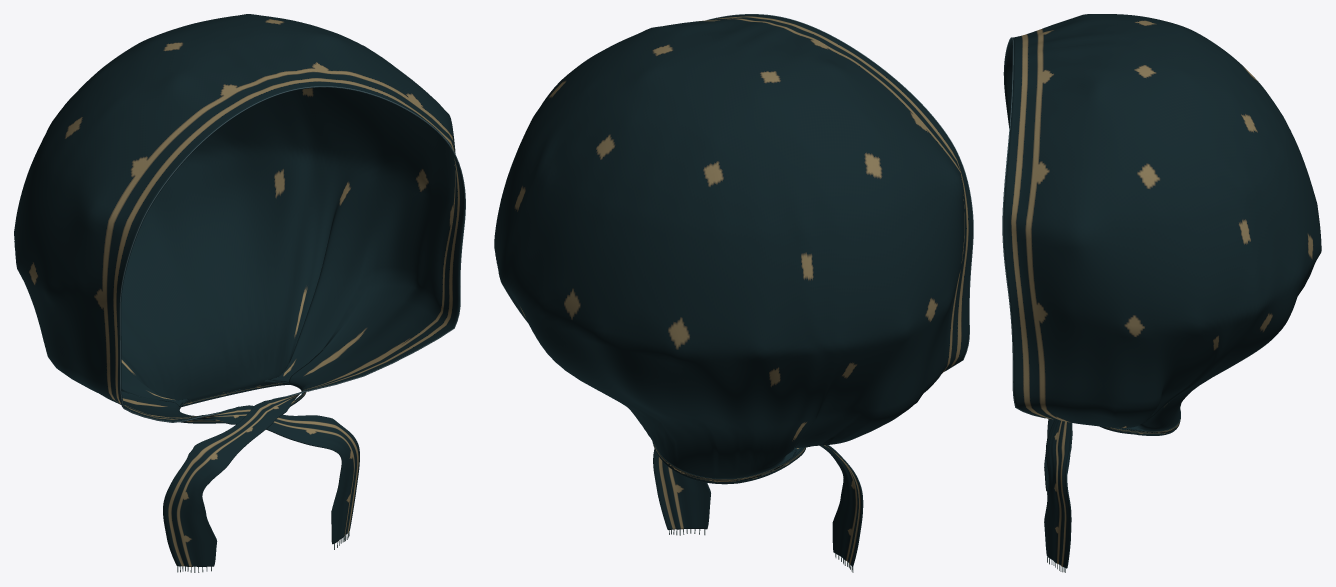
File: Masculine-locs-tank-pashmina249-headgear.glb
3 views of the same model, side by side, from view 1: azimuth 30°, elevation 25°; view 2: azimuth 150°, elevation 25°; view 3: azimuth 270°, elevation 25° (orthographic). The views are drawn at different scales.
Visible parts, largest first — view 1: 226 headgear / Headwear / continuous woven pashmina239, 226 headgear / Headwear / face edge239; view 2: 226 headgear / Headwear / continuous woven pashmina239, 226 headgear / Headwear / face edge239; view 3: 226 headgear / Headwear / continuous woven pashmina239, 226 headgear / Headwear / face edge239.
Boxes of the visible parts, bbox=[...] form: 226 headgear / Headwear / continuous woven pashmina239: bbox=[14, 14, 464, 566]; 226 headgear / Headwear / face edge239: bbox=[119, 86, 465, 422]; 226 headgear / Headwear / continuous woven pashmina239: bbox=[494, 14, 972, 566]; 226 headgear / Headwear / face edge239: bbox=[707, 14, 973, 371]; 226 headgear / Headwear / continuous woven pashmina239: bbox=[1003, 14, 1321, 568]; 226 headgear / Headwear / face edge239: bbox=[1002, 37, 1047, 418].
Size of the model in its own units: 1.15 by 1.4 by 0.8232.
Materials: 3 (1 with a texture image).
